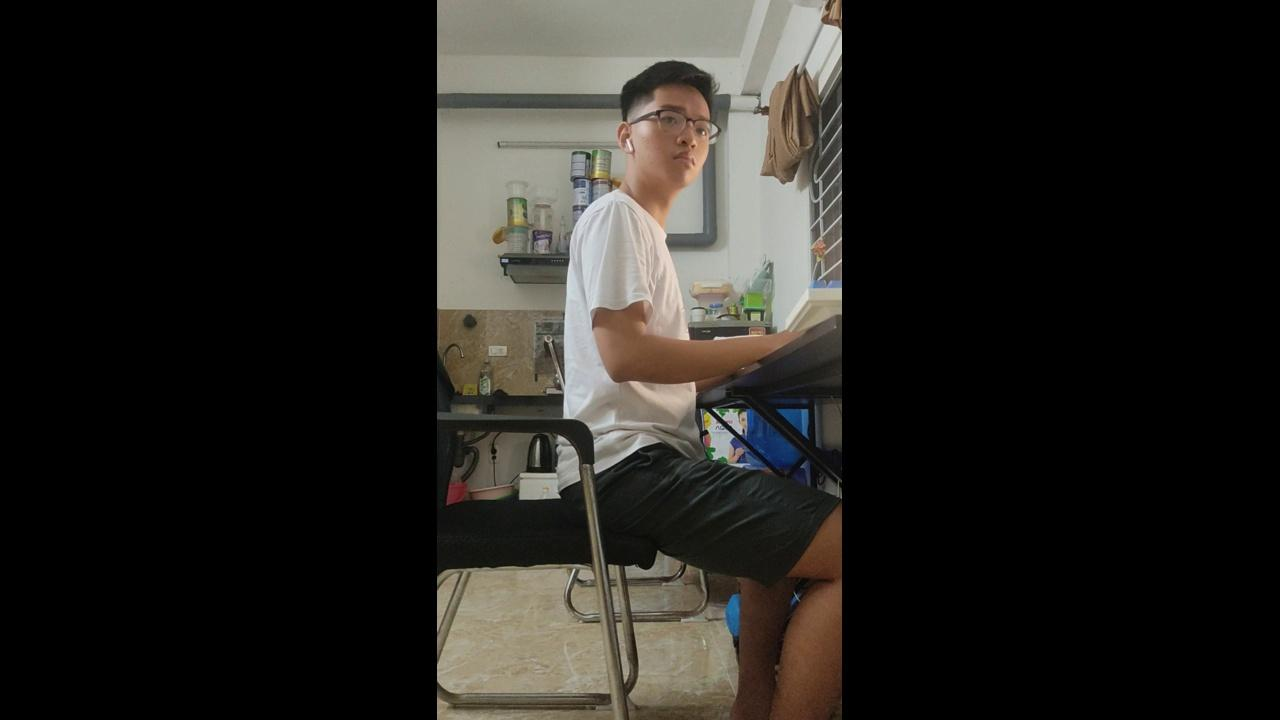GoodPosture: (564, 60, 844, 719), (564, 60, 784, 419)
